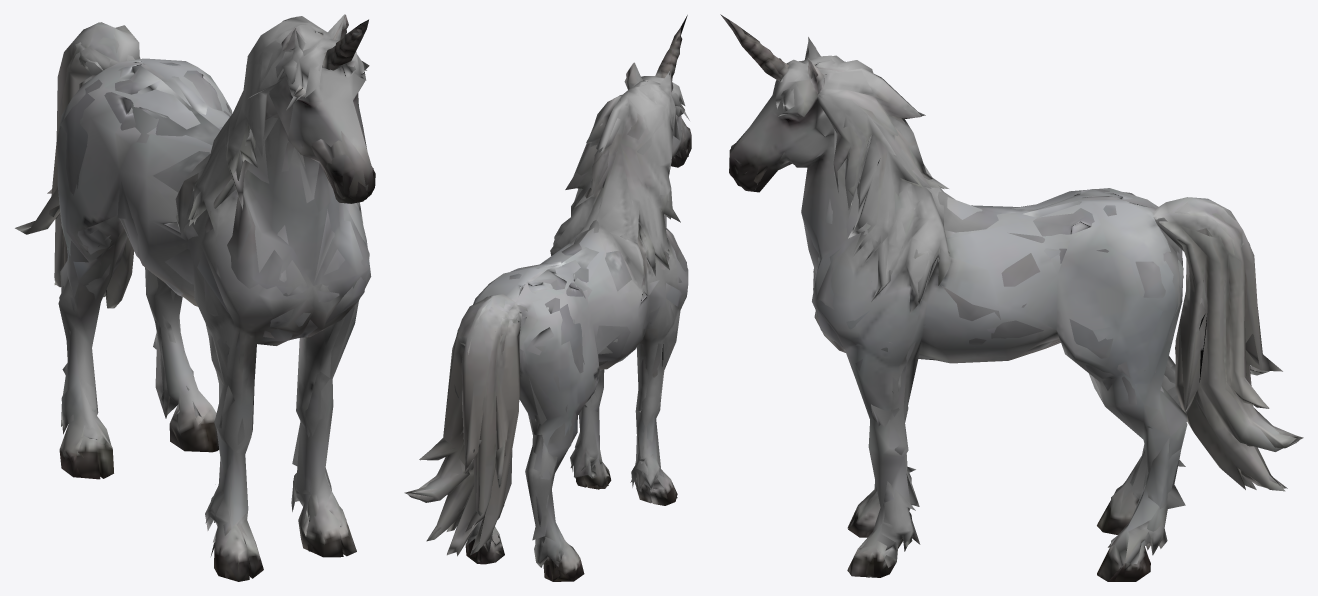
The model's file is detail_13_lo.glb.
3 renders of one model, left to right at view 1: azimuth 30°, elevation 25°; view 2: azimuth 150°, elevation 25°; view 3: azimuth 270°, elevation 25°, orthographic. The views are drawn at different scales.
Parts seen in each view (by area): view 1: Mesh_0.001; view 2: Mesh_0.001; view 3: Mesh_0.001.
Boxes of the visible parts, x1,y1,x2,y2 form: Mesh_0.001: (15, 14, 375, 581); Mesh_0.001: (404, 15, 691, 581); Mesh_0.001: (720, 14, 1303, 581).
Size of the model in its own units: 0.2844 by 1 by 0.9884.
Materials: 1 (1 with a texture image).
